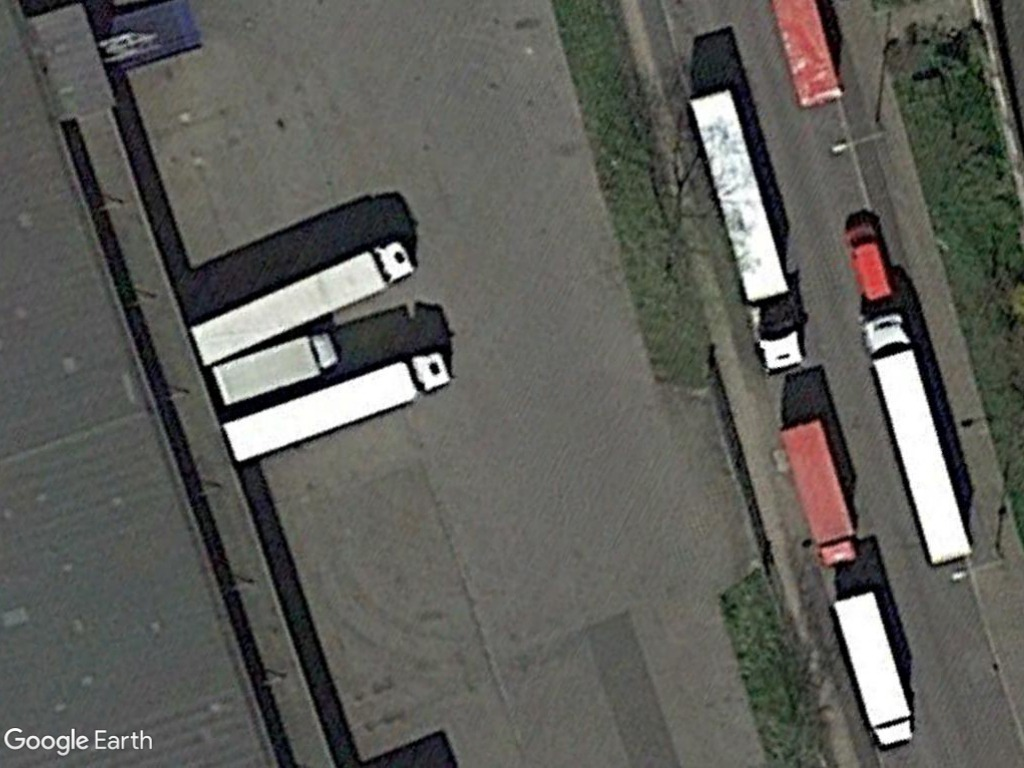longvehicle: (689, 86, 806, 376), (186, 237, 415, 369), (861, 312, 977, 570), (217, 347, 452, 470)
truck: (828, 585, 918, 750), (780, 417, 861, 571), (212, 326, 340, 412)
van: (844, 220, 893, 304)
